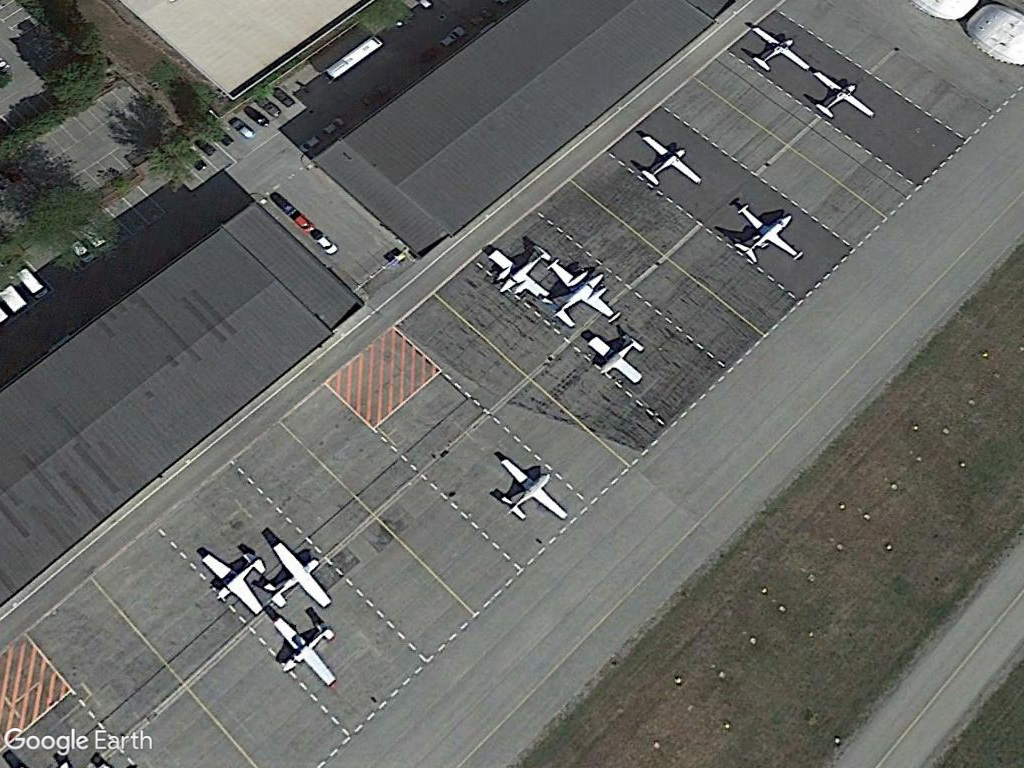trainer: (257, 541, 339, 615), (492, 455, 571, 525), (727, 199, 807, 266), (267, 618, 340, 689), (194, 549, 269, 618), (806, 65, 883, 125), (637, 130, 705, 192), (737, 19, 812, 75), (583, 331, 647, 390)
